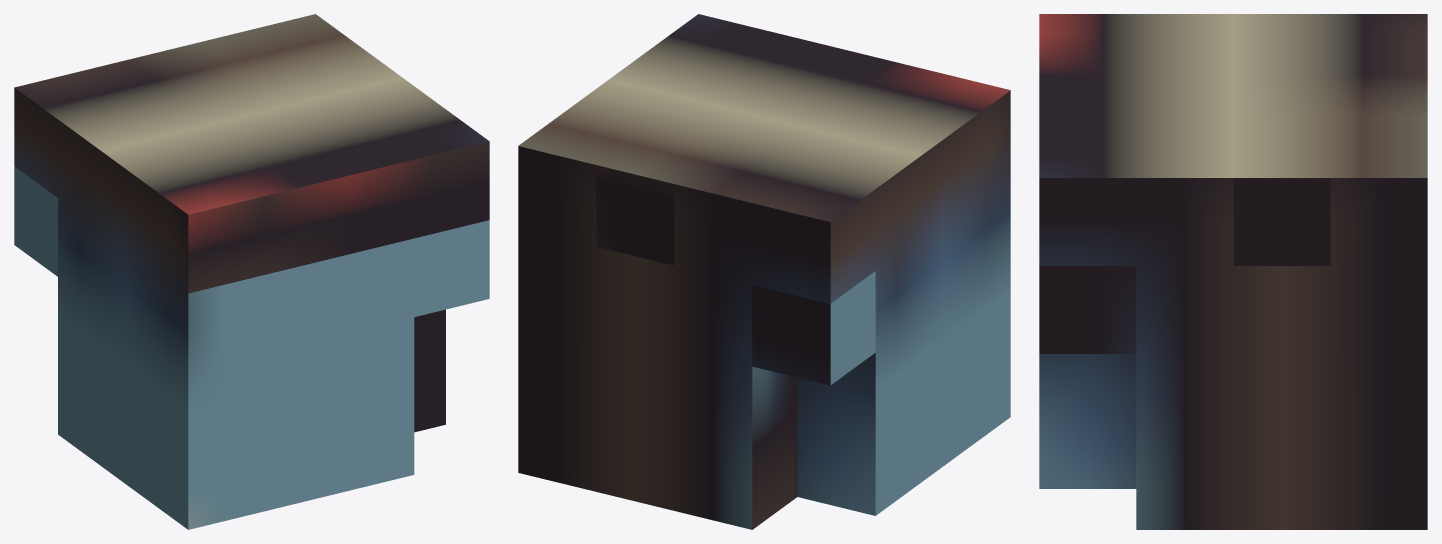
Rendered from casa1_cantonada_dalt.fbx.
The picture shows the model from 3 angles, left to right: view 1: azimuth 30°, elevation 25°; view 2: azimuth 150°, elevation 25°; view 3: azimuth 270°, elevation 25°; orthographic projection. The views are drawn at different scales.
Parts seen in each view (by area): view 1: Wall1.014; view 2: Wall1.014; view 3: Wall1.014.
Part boxes in pixels (x1,y1,x2,y2): Wall1.014: (14,14,489,529); Wall1.014: (518,14,1010,529); Wall1.014: (1039,14,1427,529).
Bounding box in the file's own units: 100 × 100 × 100.
